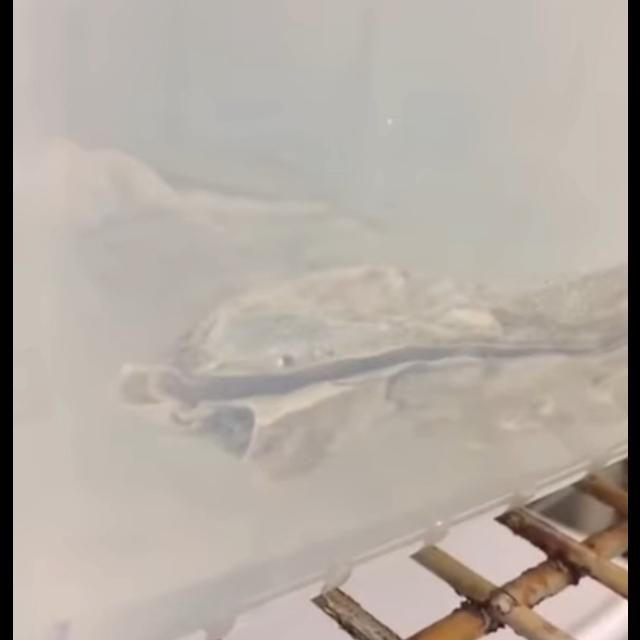Oyster-Indeterminate: (52, 130, 338, 252)
Oyster-Open: (115, 262, 628, 482)
